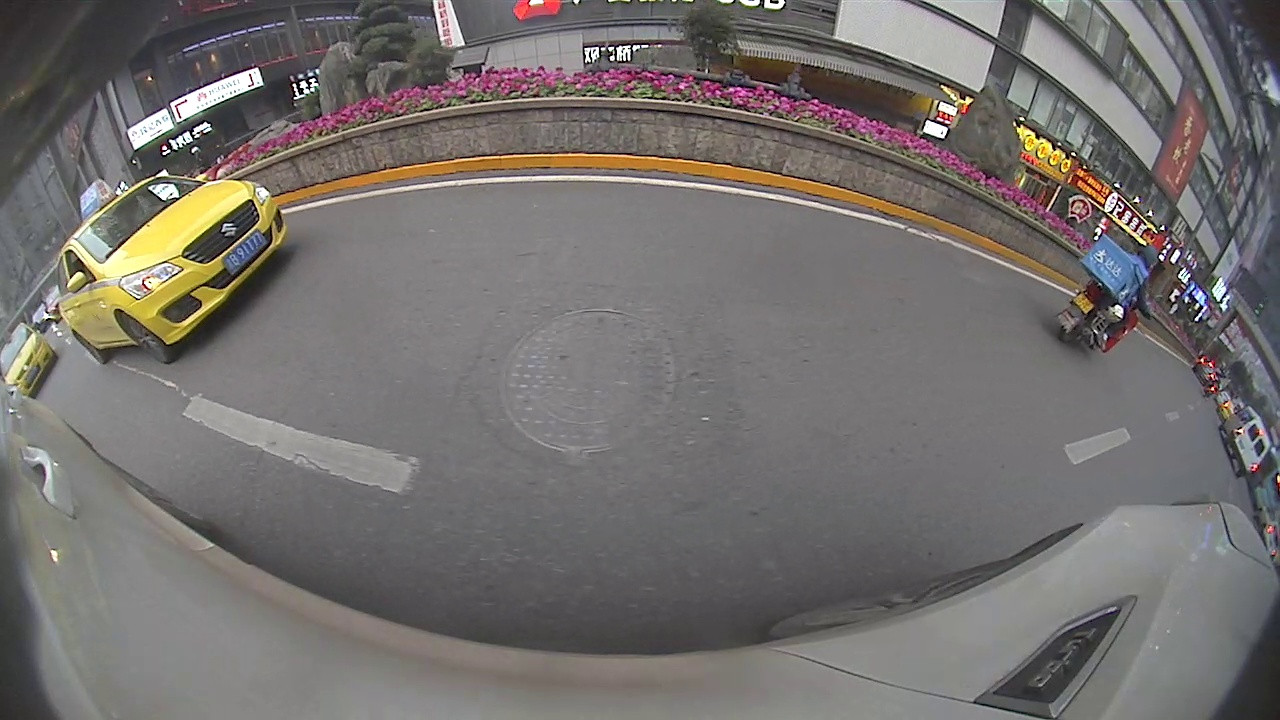car: (57, 174, 287, 365), (0, 323, 58, 399), (1216, 405, 1270, 477)
front: (117, 312, 171, 366)
rear: (72, 331, 106, 368)
rider: (1055, 231, 1158, 357)
